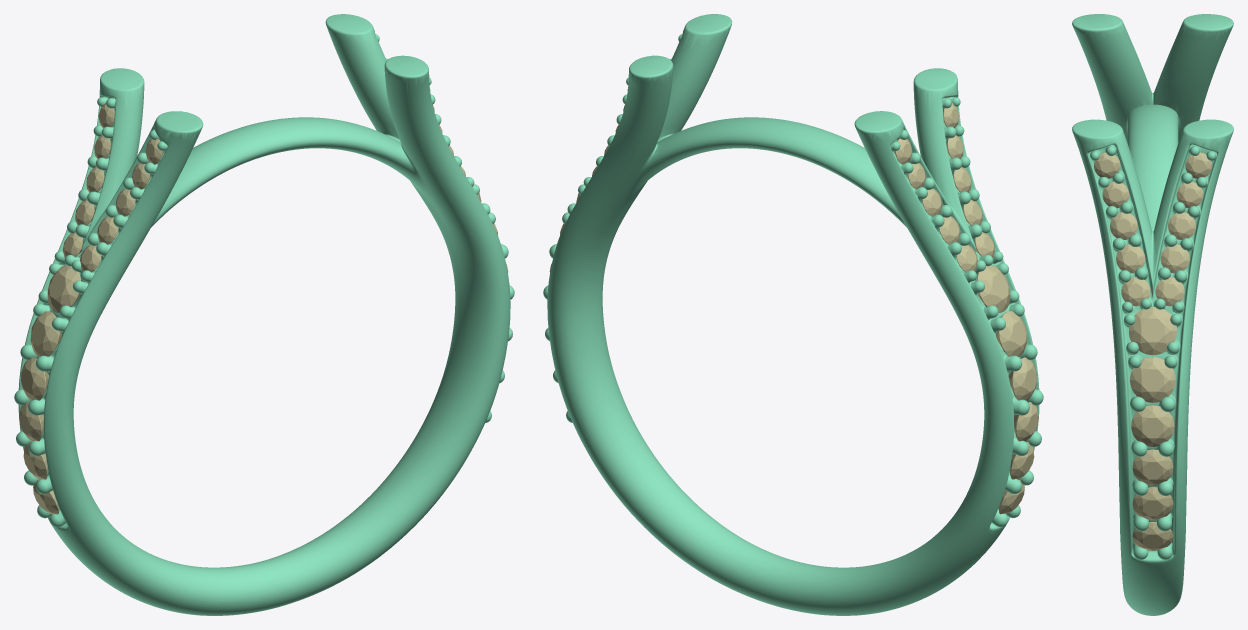
The picture shows the model from 3 angles, left to right: view 1: azimuth 30°, elevation 25°; view 2: azimuth 150°, elevation 25°; view 3: azimuth 270°, elevation 25°; orthographic projection. The views are drawn at different scales.
Parts seen in each view (by area): view 1: Metal02, Diamond_Gem.005, Diamond_Gem.004, Diamond_Gem; view 2: Metal02, Diamond_Gem.005, Diamond_Gem.004, Diamond_Gem; view 3: Metal02, Diamond_Gem.026, Diamond_Gem.027, Diamond_Gem.031, Diamond_Gem.028, Diamond_Gem.029, Diamond_Gem.030, Diamond_Gem.020, Diamond_Gem.023, Diamond_Gem.021, Diamond_Gem.022, Diamond_Gem.025 (+5 smaller).
Boxes of the visible parts, <box> form: Metal02: <box>14,14,514,615</box>; Diamond_Gem.005: <box>47,265,80,313</box>; Diamond_Gem.004: <box>30,311,61,357</box>; Diamond_Gem: <box>21,357,49,400</box>; Metal02: <box>543,14,1043,615</box>; Diamond_Gem.005: <box>977,264,1010,312</box>; Diamond_Gem.004: <box>996,311,1027,356</box>; Diamond_Gem: <box>1008,357,1037,400</box>; Metal02: <box>1072,14,1233,615</box>; Diamond_Gem.026: <box>1129,307,1177,355</box>; Diamond_Gem.027: <box>1130,357,1175,402</box>; Diamond_Gem.031: <box>1131,405,1174,446</box>; Diamond_Gem.028: <box>1132,449,1173,485</box>; Diamond_Gem.029: <box>1132,487,1173,520</box>; Diamond_Gem.030: <box>1132,521,1173,550</box>; Diamond_Gem.020: <box>1160,244,1189,273</box>; Diamond_Gem.023: <box>1116,244,1145,273</box>; Diamond_Gem.021: <box>1155,277,1184,306</box>; Diamond_Gem.022: <box>1121,277,1150,306</box>; Diamond_Gem.025: <box>1168,212,1195,239</box>.
Size of the model in its own units: 21.2 by 22.4 by 6.36.
